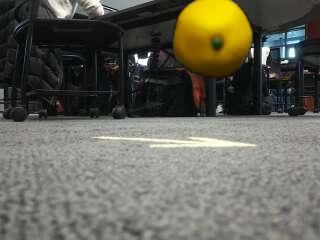lemon: (174, 0, 252, 77)
